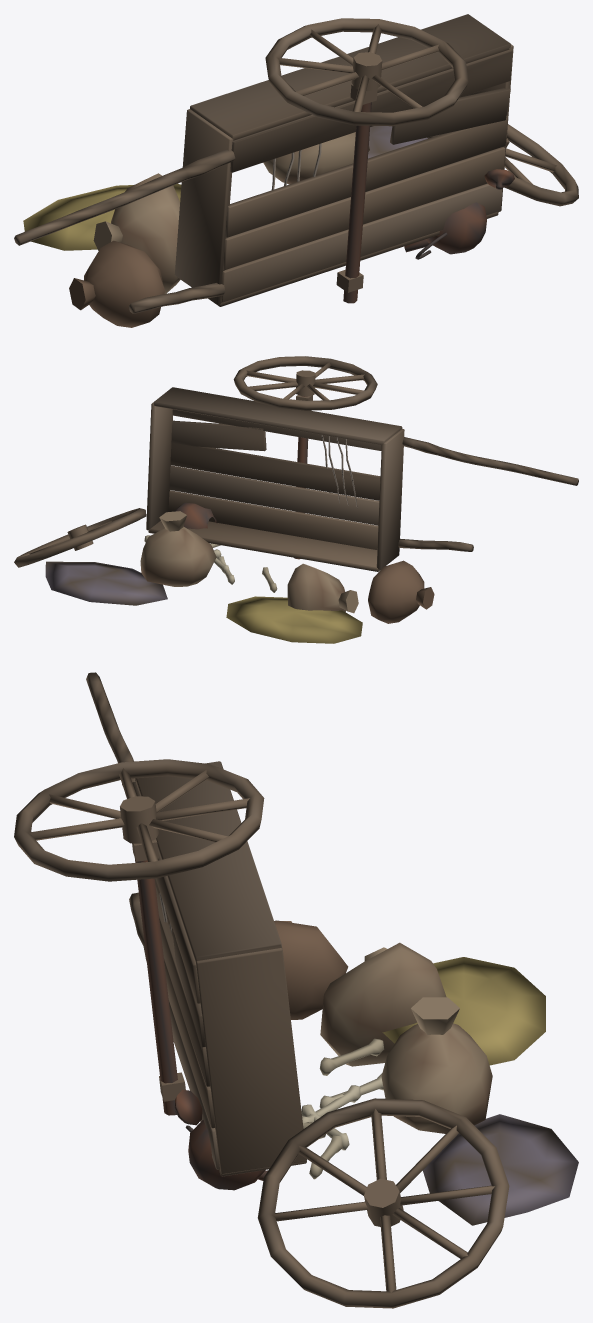
The model's file is camp_martax_den_hoard.glb.
3 renders of one model, top to bottom at view 1: azimuth 30°, elevation 25°; view 2: azimuth 150°, elevation 25°; view 3: azimuth 270°, elevation 25°, orthographic. The views are drawn at different scales.
Parts seen in each view (by area): view 1: camp_martax_den_hoard; view 2: camp_martax_den_hoard; view 3: camp_martax_den_hoard.
Part boxes in pixels (x1,y1,x2,y2): camp_martax_den_hoard: (14, 14, 578, 327); camp_martax_den_hoard: (14, 356, 578, 643); camp_martax_den_hoard: (14, 672, 578, 1308).
Size of what is drawn, in the model's own units: 3.71 by 1.44 by 2.19.
